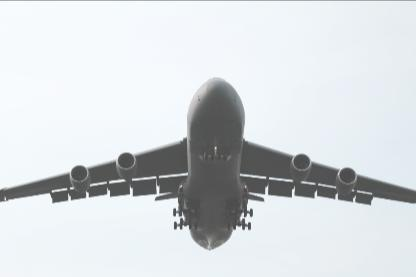C17: (0, 77, 415, 251)
